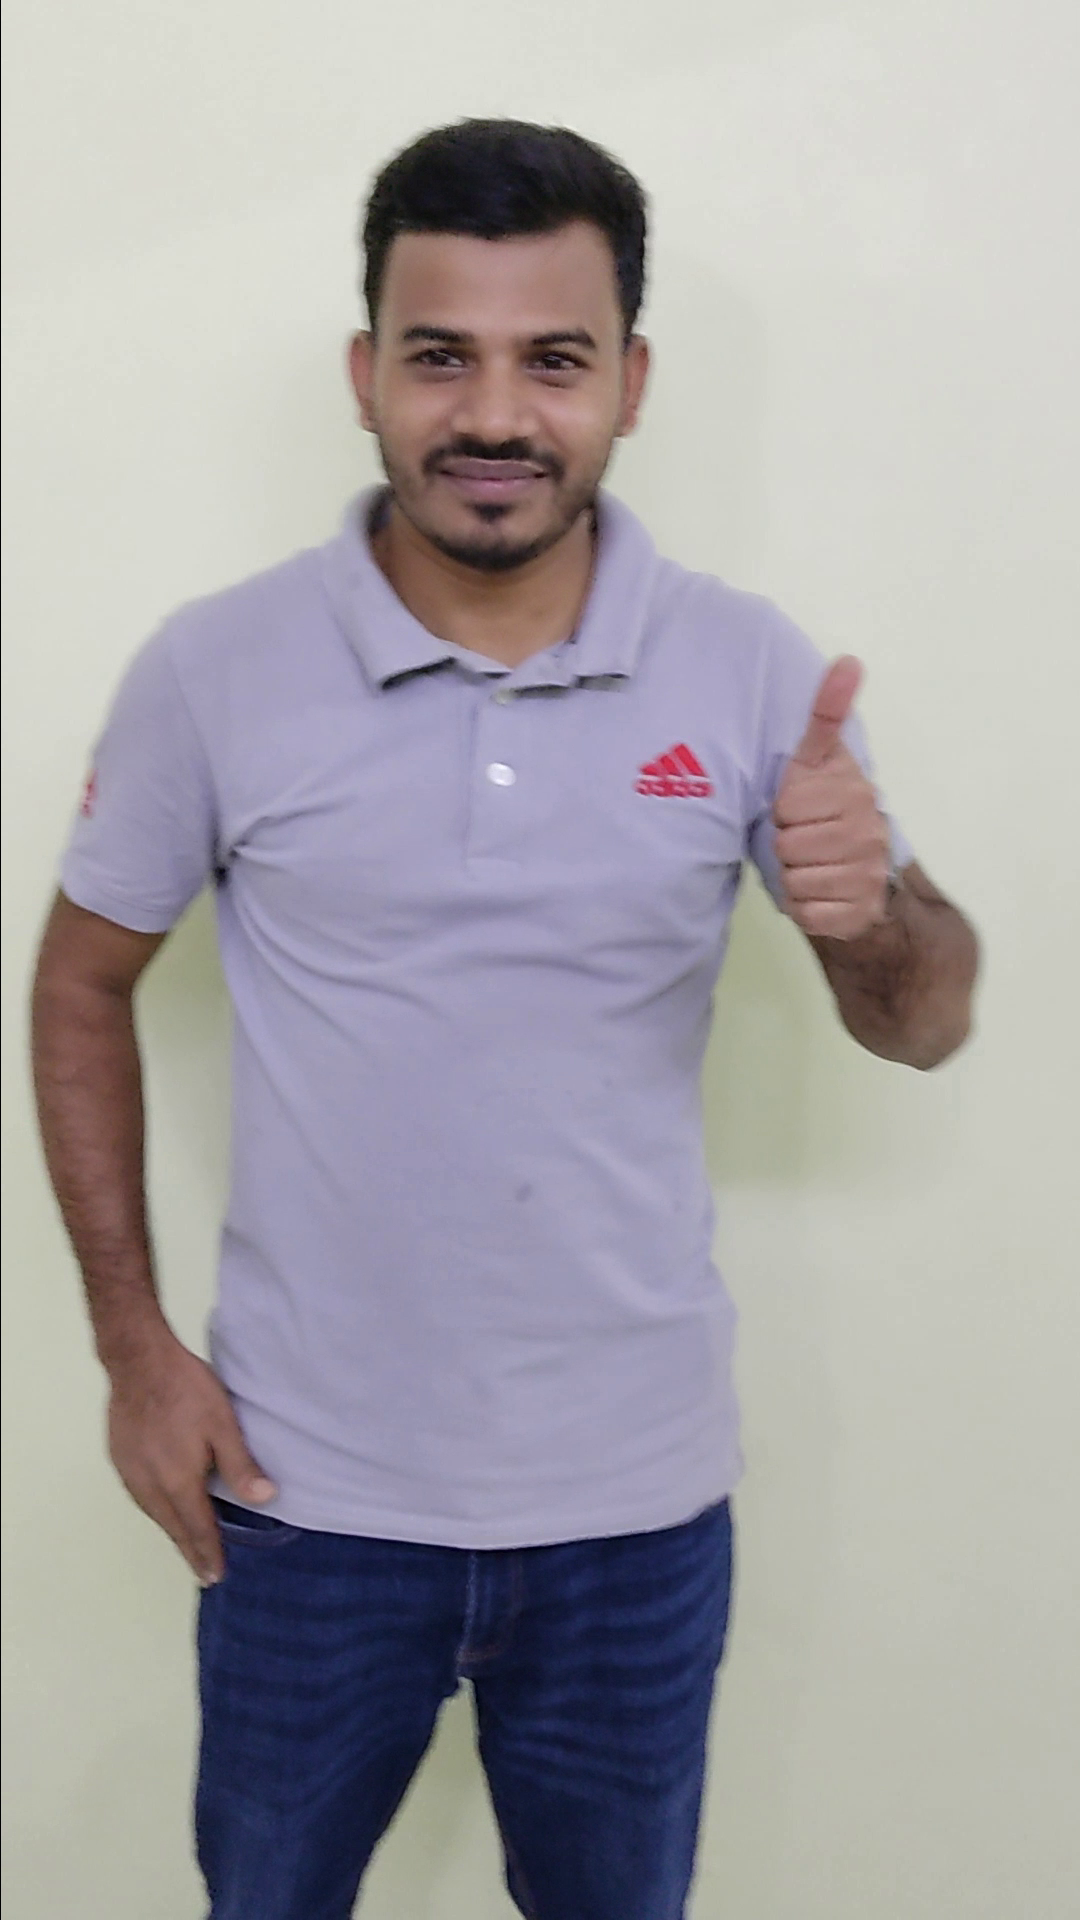Like: (727, 641, 936, 968)
None: (94, 1323, 294, 1614)
